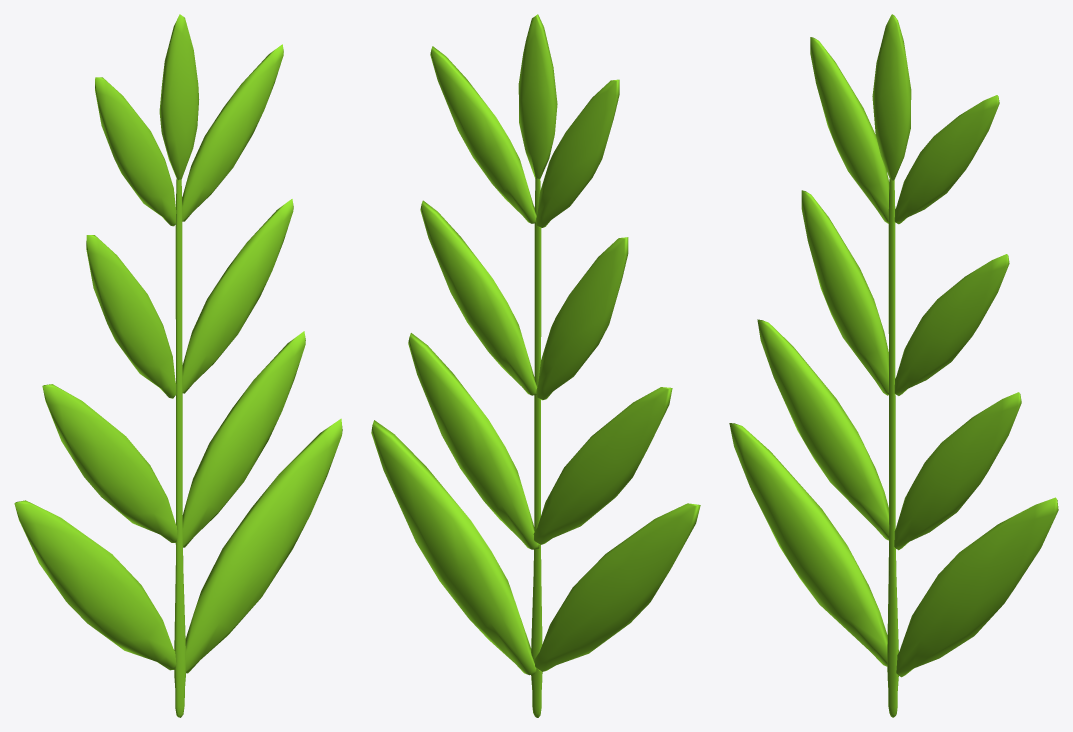
Rendered from standing grass.fbx.
3 renders of one model, left to right at view 1: azimuth 30°, elevation 25°; view 2: azimuth 150°, elevation 25°; view 3: azimuth 330°, elevation 25°, orthographic.
Visible parts, largest first — view 1: leaf2.010, leaf2.011, leaf2.008, leaf2.009, leaf2.006, leaf2.007, leaf2.003, leaf2.004, leaf2.002, leaf2.005; view 2: leaf2.010, leaf2.011, leaf2.008, leaf2.009, leaf2.006, leaf2.007, leaf2.003, leaf2.004, leaf2.002, leaf2.005; view 3: leaf2.011, leaf2.010, leaf2.009, leaf2.008, leaf2.007, leaf2.006, leaf2.004, leaf2.003, leaf2.002, leaf2.005.
Part boxes in pixels (x1,y1,x2,y2): leaf2.010: (185, 418, 342, 673); leaf2.011: (14, 500, 176, 670); leaf2.008: (175, 331, 305, 547); leaf2.009: (42, 384, 177, 542); leaf2.006: (182, 199, 293, 393); leaf2.007: (86, 235, 176, 398); leaf2.003: (182, 44, 283, 221); leaf2.004: (95, 77, 176, 226); leaf2.002: (159, 14, 199, 180); leaf2.005: (174, 178, 185, 717); leaf2.010: (371, 420, 536, 675); leaf2.011: (534, 503, 700, 671); leaf2.008: (408, 333, 539, 549); leaf2.009: (533, 387, 672, 544); leaf2.006: (420, 200, 537, 395); leaf2.007: (536, 237, 628, 400); leaf2.003: (430, 46, 536, 223); leaf2.004: (535, 79, 619, 228); leaf2.002: (518, 14, 557, 178); leaf2.005: (531, 178, 542, 717); leaf2.011: (729, 423, 887, 666); leaf2.010: (896, 497, 1058, 677); leaf2.009: (757, 319, 889, 540); leaf2.008: (894, 392, 1021, 550); leaf2.007: (801, 190, 888, 395); leaf2.006: (894, 254, 1009, 395); leaf2.004: (810, 37, 889, 223); leaf2.003: (894, 95, 999, 224); leaf2.002: (872, 14, 911, 180); leaf2.005: (887, 179, 898, 717).
Size of the model in its own units: 141 by 288 by 13.65.
